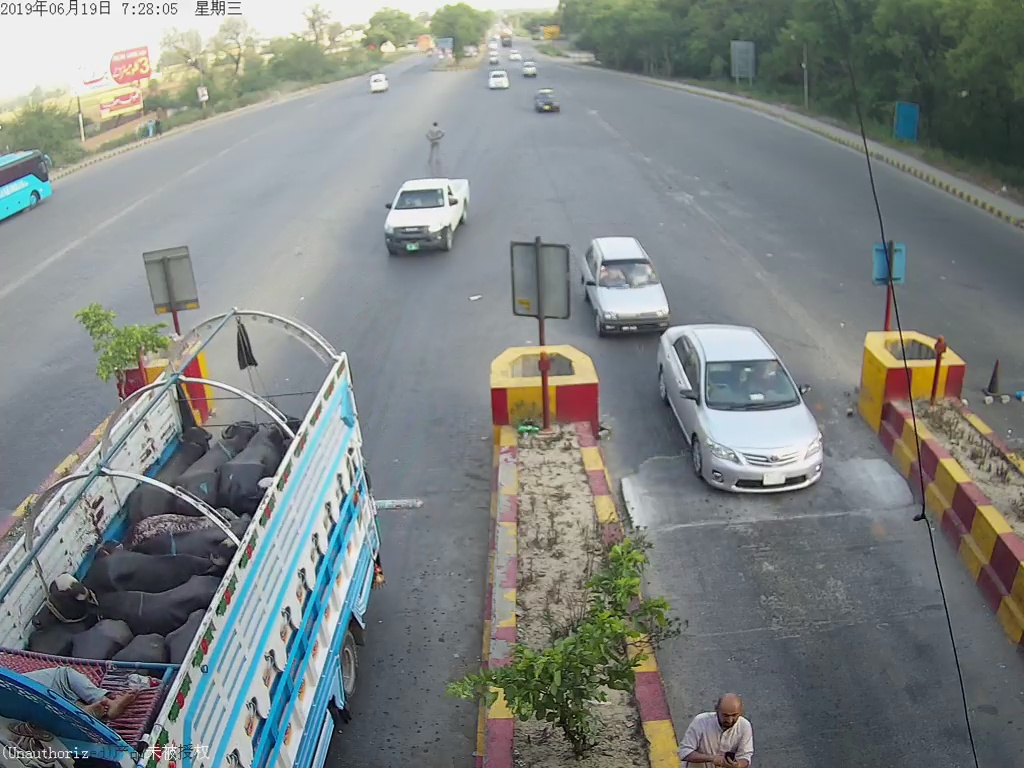Cat-1: (660, 334, 840, 502), (576, 233, 662, 336), (376, 179, 474, 255)
